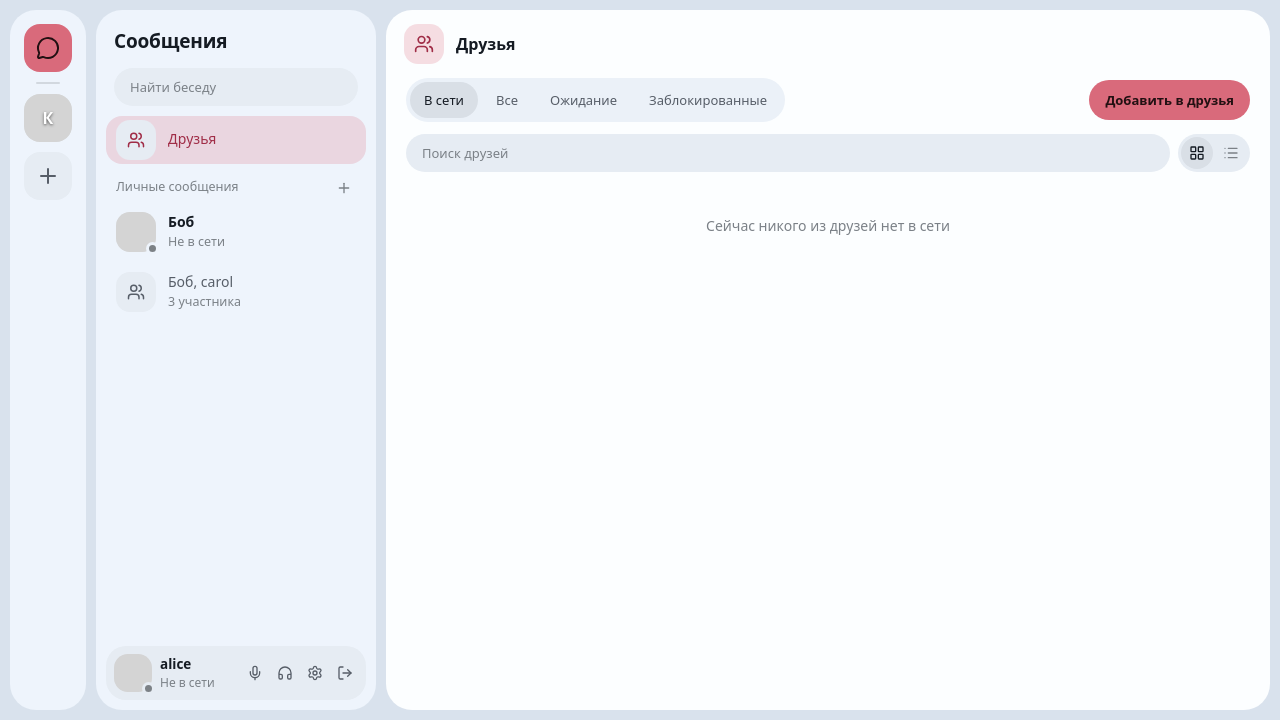
server rail › lists servers and opens one at its first text channel
The width and height of the screenshot is (1280, 720).
Step 1. Click the link named "Котики" → (48, 118), box [24,94,72,142]
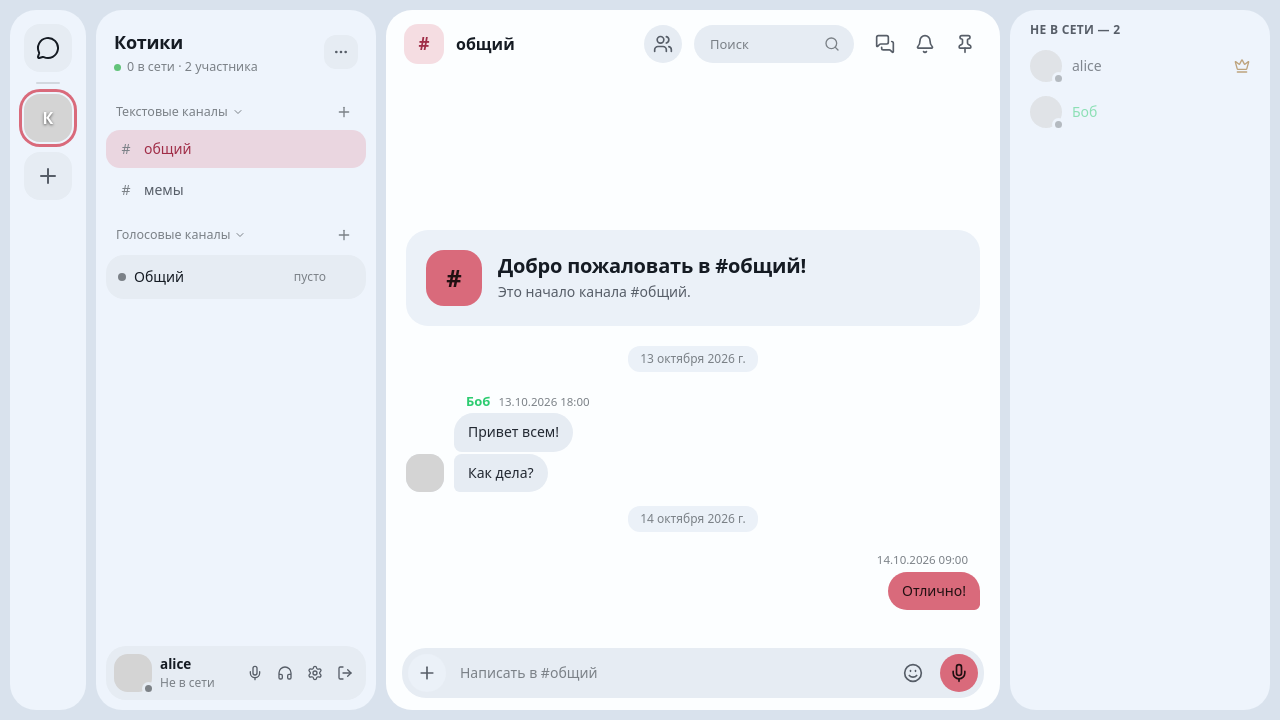
Check: the heading "общий" is shown, box [456,32,515,56]
